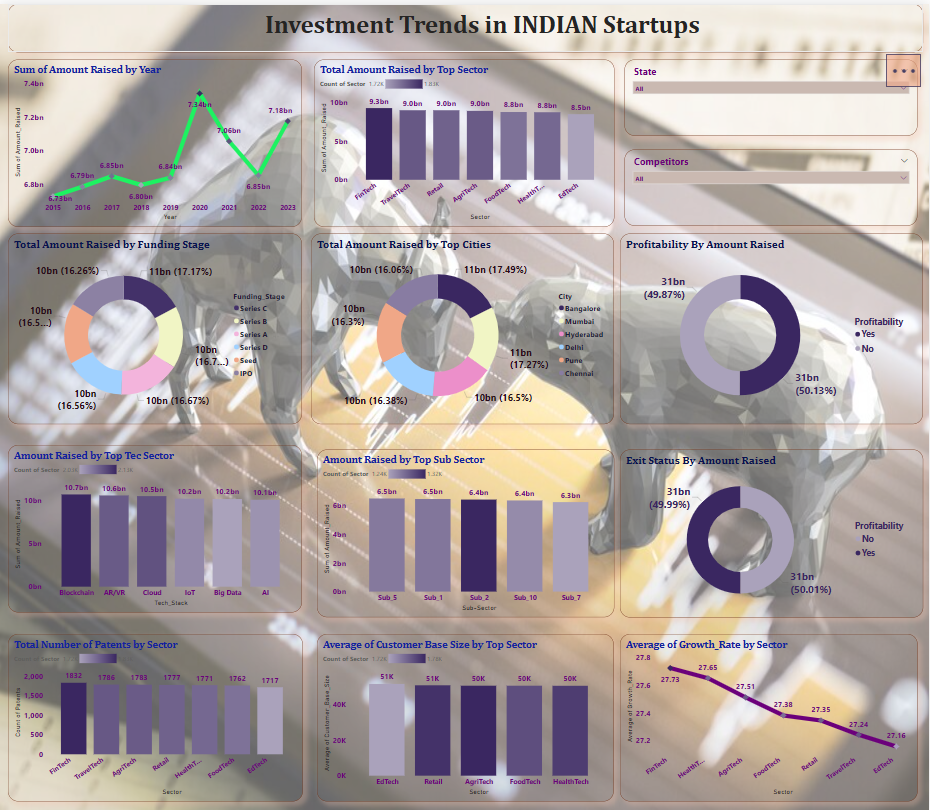

Layout of this report page (visuals, bound fields, positions):
{"tool":"powerbi","page":{"name":"Page 2","canvas":[2000,1740],"ordinal":0},"visuals":[{"type":"lineChart","title":"Sum of Amount Raised by Year","fields":{"Category":["Indian_Startup_Investment_Trends.Funding_Date.Variation.Date Hierarchy.Year","Indian_Startup_Investment_Trends.Funding_Date.Variation.Date Hierarchy.Quarter","Indian_Startup_Investment_Trends.Funding_Date.Variation.Date Hierarchy.Month","Indian_Startup_Investment_Trends.Funding_Date.Variation.Date Hierarchy.Day"],"Y":["Sum(Indian_Startup_Investment_Trends.Amount_Raised)"]},"box":[20,118,632,360],"z":0},{"type":"columnChart","title":"Total Amount Raised by Top Sector","fields":{"Category":["Indian_Startup_Investment_Trends.Sector"],"Y":["Sum(Indian_Startup_Investment_Trends.Amount_Raised)"]},"box":[676,118,646,360],"z":1000},{"type":"donutChart","title":"Total Amount Raised by Funding Stage","fields":{"Category":["Indian_Startup_Investment_Trends.Funding_Stage"],"Y":["Sum(Indian_Startup_Investment_Trends.Amount_Raised)"]},"box":[20,494,632,410],"z":2000},{"type":"donutChart","title":"Total Amount Raised by Top Cities","fields":{"Category":["Indian_Startup_Investment_Trends.City"],"Y":["Sum(Indian_Startup_Investment_Trends.Amount_Raised)"]},"box":[670,494.3,651.4,410],"z":3000},{"type":"donutChart","title":"Profitability By Amount Raised ","fields":{"Y":["Sum(Indian_Startup_Investment_Trends.Amount_Raised)"],"Category":["Indian_Startup_Investment_Trends.Profitability"]},"box":[1335.7,494.3,651.4,410],"z":4000},{"type":"columnChart","title":"Amount Raised by Top Tec Sector","fields":{"Y":["Sum(Indian_Startup_Investment_Trends.Amount_Raised)"],"Category":["Indian_Startup_Investment_Trends.Tech_Stack"]},"box":[20,948,632,360],"z":5000},{"type":"columnChart","title":"Amount Raised by Top Sub Sector","fields":{"Y":["Sum(Indian_Startup_Investment_Trends.Amount_Raised)"],"Category":["Indian_Startup_Investment_Trends.Sub-Sector"]},"box":[682.8,957.5,639.1,360.9],"z":6000},{"type":"donutChart","title":"Exit Status By Amount Raised ","fields":{"Y":["Sum(Indian_Startup_Investment_Trends.Amount_Raised)"],"Category":["Indian_Startup_Investment_Trends.Exit_Status"]},"box":[1336,957.3,652,361.3],"z":7000},{"type":"slicer","fields":{"Values":["Indian_Startup_Investment_Trends.State"]},"box":[1346,118,630,164],"z":8000},{"type":"textbox","box":[20,0,1968,104],"z":9000},{"type":"slicer","fields":{"Values":["Indian_Startup_Investment_Trends.Competitors"]},"box":[1346,314,630,164],"z":10000},{"type":"clusteredColumnChart","title":"Total Number of Patents by Sector","fields":{"Y":["CountNonNull(Indian_Startup_Investment_Trends.Patents)"],"Category":["Indian_Startup_Investment_Trends.Sector"]},"box":[18,1356,634,360],"z":11000},{"type":"columnChart","title":"Average of Customer Base Size by Top  Sector","fields":{"Category":["Indian_Startup_Investment_Trends.Sector"],"Y":["Avg(Indian_Startup_Investment_Trends.Customer_Base_Size)"]},"box":[684,1356,638,360],"z":12000},{"type":"areaChart","fields":{"Y":["Avg(Indian_Startup_Investment_Trends.Growth_Rate)"],"Category":["Indian_Startup_Investment_Trends.Sector"]},"box":[1336,1356,640,360],"z":12001}]}

Visuals, with their boxes in screenshot pixels (x1, y1, x2, y2), scaled from the page's 2000x1740 canvas onto the 930x810 screenshot:
"Sum of Amount Raised by Year" lineChart: detection(9, 55, 303, 223)
"Total Amount Raised by Top Sector" columnChart: detection(314, 55, 615, 223)
"Total Amount Raised by Funding Stage" donutChart: detection(9, 230, 303, 421)
"Total Amount Raised by Top Cities" donutChart: detection(312, 230, 614, 421)
"Profitability By Amount Raised " donutChart: detection(621, 230, 924, 421)
"Amount Raised by Top Tec Sector" columnChart: detection(9, 441, 303, 609)
"Amount Raised by Top Sub Sector" columnChart: detection(318, 446, 615, 614)
"Exit Status By Amount Raised " donutChart: detection(621, 446, 924, 614)
slicer - Indian_Startup_Investment_Trends.State: detection(626, 55, 919, 131)
textbox: detection(9, 0, 924, 48)
slicer - Indian_Startup_Investment_Trends.Competitors: detection(626, 146, 919, 223)
"Total Number of Patents by Sector" clusteredColumnChart: detection(8, 631, 303, 799)
"Average of Customer Base Size by Top  Sector" columnChart: detection(318, 631, 615, 799)
areaChart - Avg(Indian_Startup_Investment_Trends.Growth_Rate) x Indian_Startup_Investment_Trends.Sector: detection(621, 631, 919, 799)
